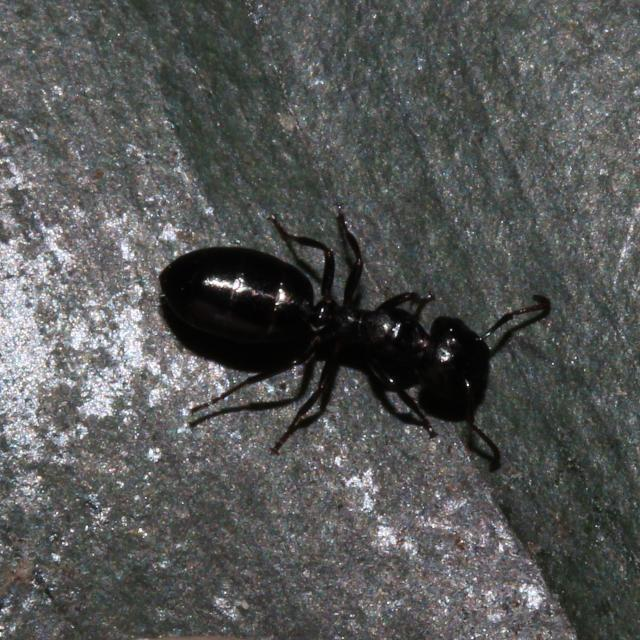Colobopsis: (134, 206, 544, 460)
